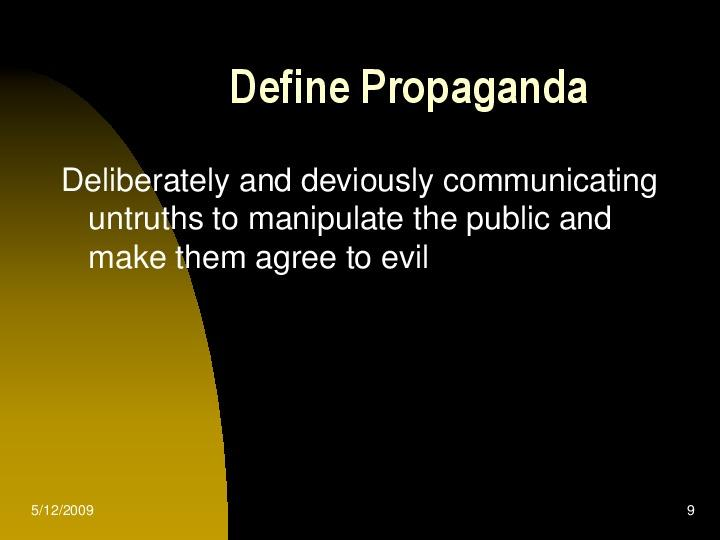paragraph: (44, 146, 678, 297)
title: (215, 52, 618, 126)
